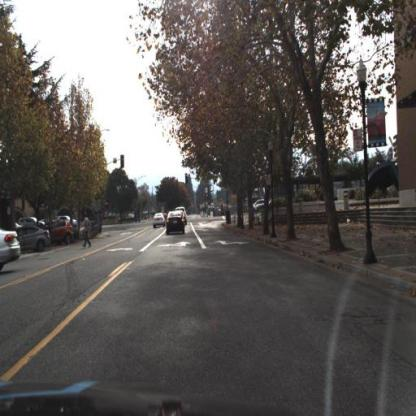car: (13, 221, 54, 258), (44, 217, 76, 249), (165, 209, 187, 237), (52, 223, 75, 244), (151, 211, 168, 232)
pedestrian: (78, 207, 96, 252)
trafficLight-Red: (184, 172, 190, 188), (185, 176, 189, 189)
